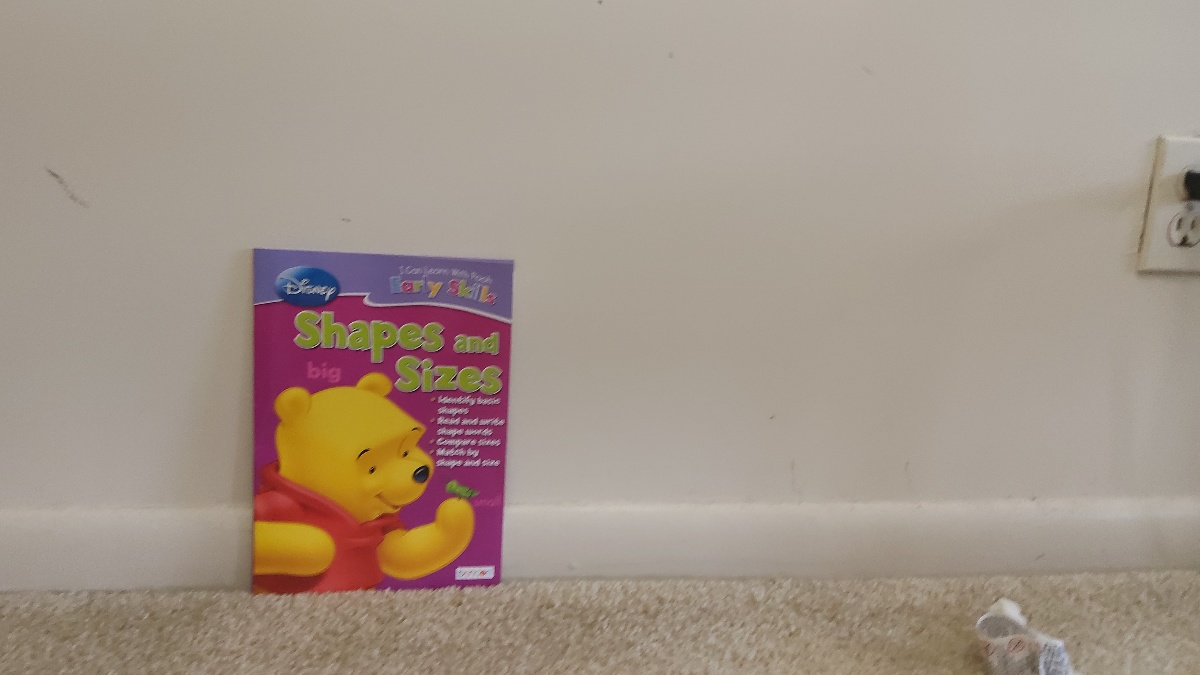book: (252, 247, 497, 586)
